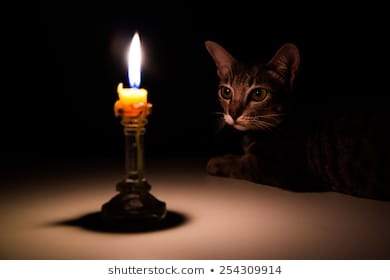fire: (126, 30, 142, 85)
